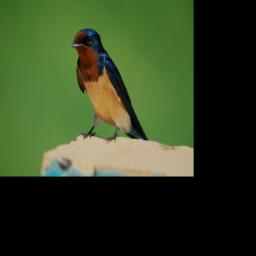Swallow: (70, 27, 149, 145)
